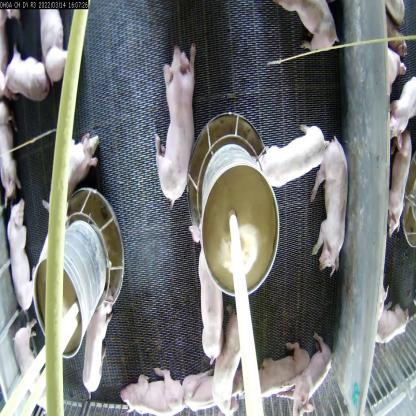Pig: (155, 47, 206, 200), (0, 172, 48, 326), (186, 229, 232, 375), (76, 261, 117, 388), (28, 0, 74, 112), (257, 114, 321, 193), (315, 148, 358, 262), (208, 306, 251, 414), (177, 353, 250, 416), (51, 125, 113, 199), (129, 356, 190, 416), (258, 344, 308, 414), (0, 42, 41, 118), (296, 360, 334, 415)
